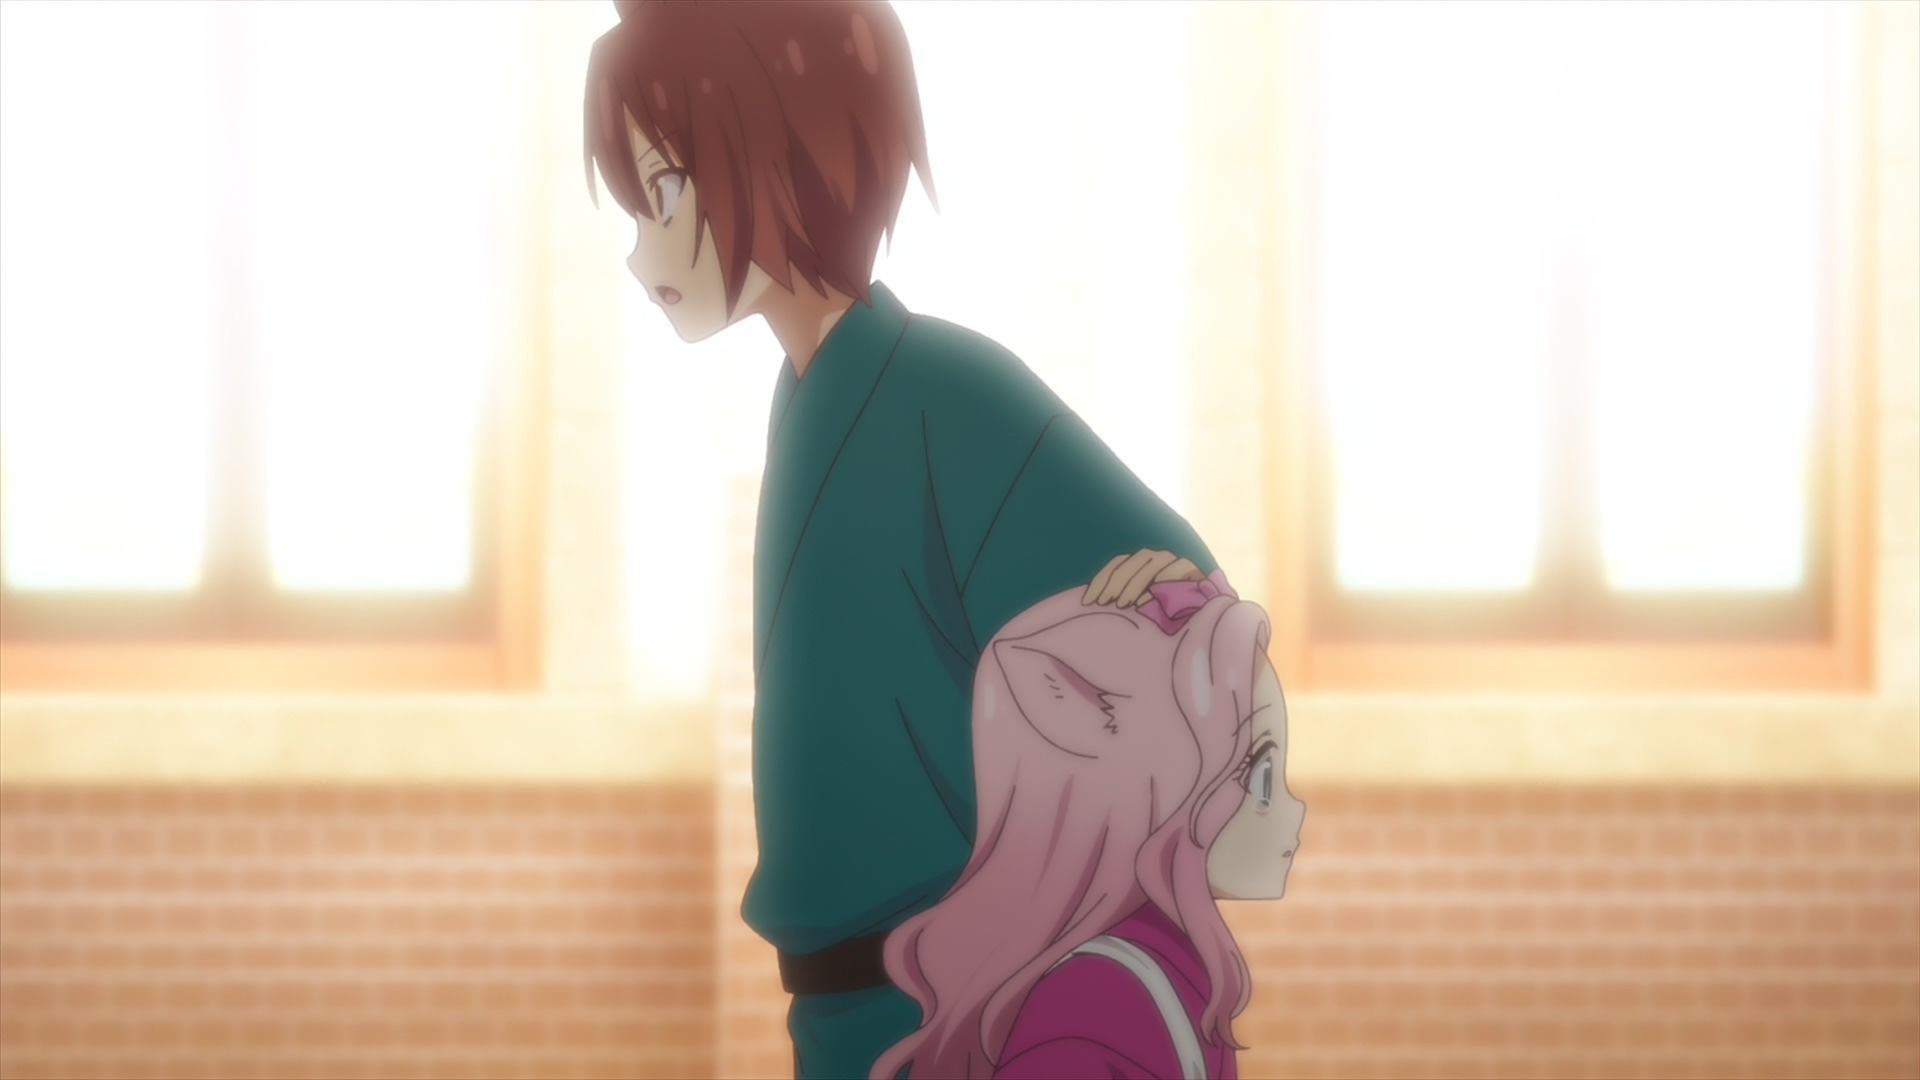枣: (583, 1, 1220, 1080)
莲: (868, 583, 1307, 1080)
